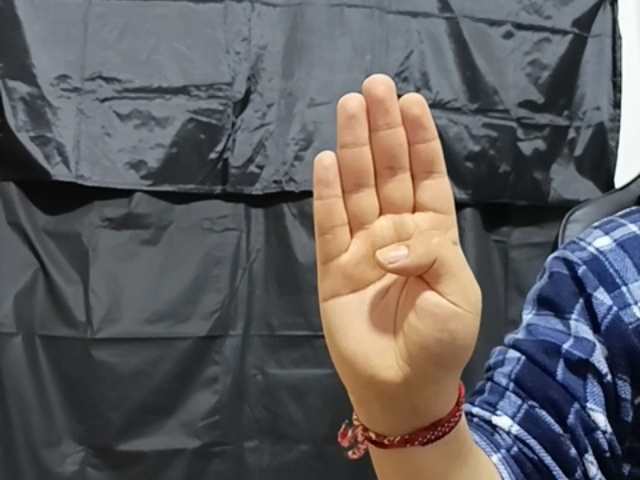B: (306, 72, 485, 383)
